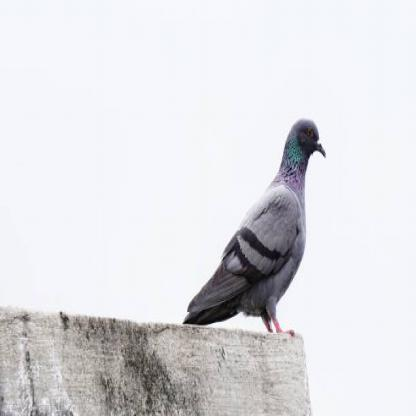Flying Rat: (174, 115, 332, 341)
